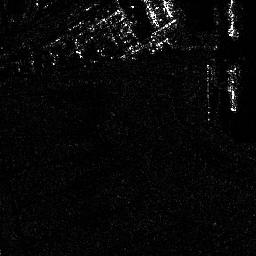ship: (226, 64, 239, 112), (226, 1, 238, 37)
